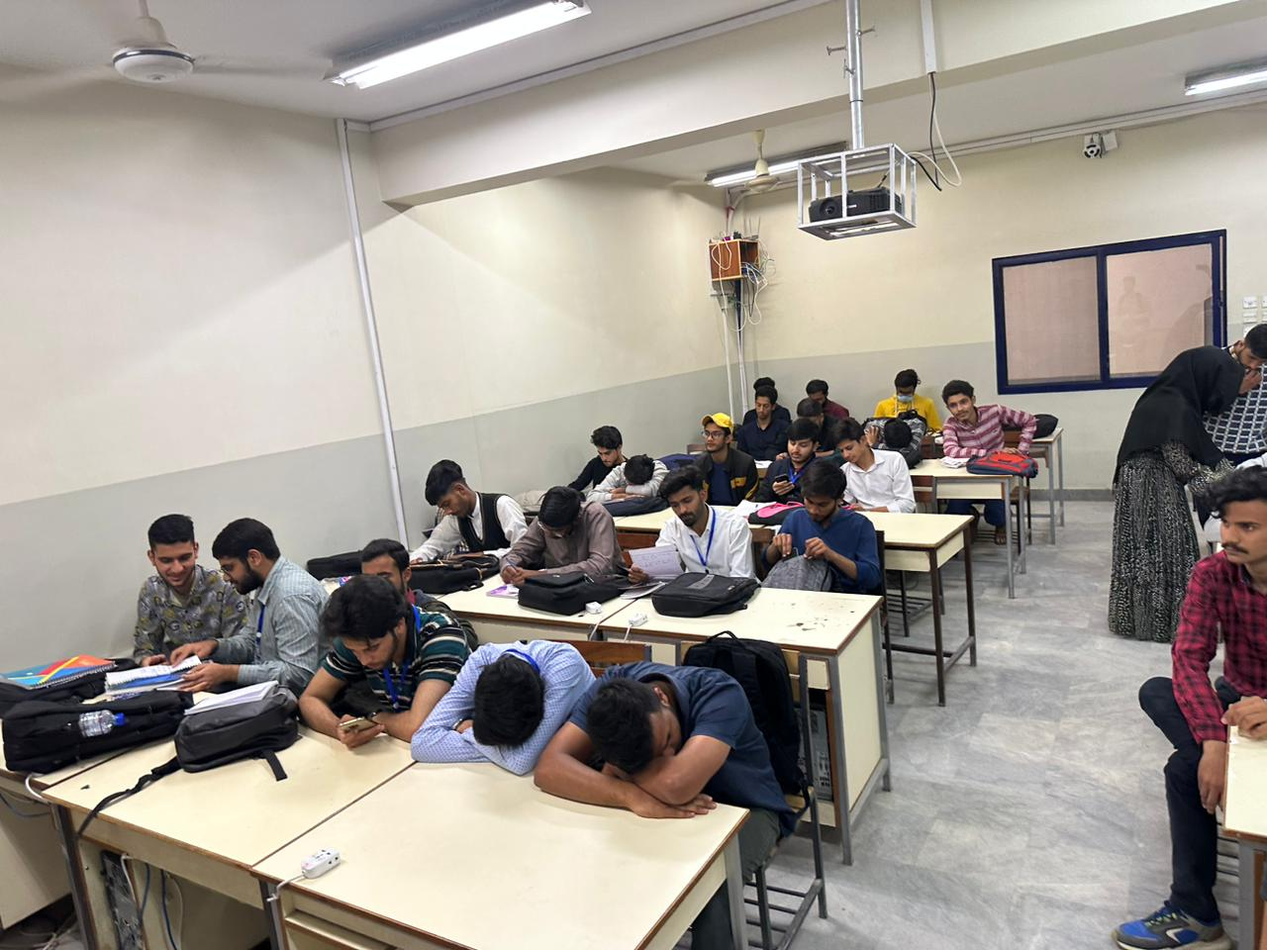non-cheating: (312, 573, 413, 673), (796, 458, 849, 526), (658, 461, 713, 526), (424, 461, 478, 520), (536, 485, 586, 545), (784, 417, 823, 466), (941, 377, 976, 428), (700, 411, 735, 455), (590, 423, 624, 467), (892, 368, 922, 404), (752, 383, 780, 421)
phone: (1202, 463, 1267, 576), (324, 704, 391, 754), (759, 470, 800, 503)
